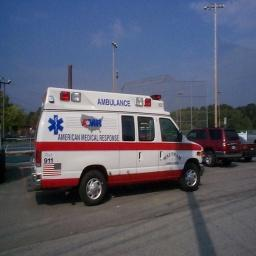Ambulance: (27, 87, 203, 204)
